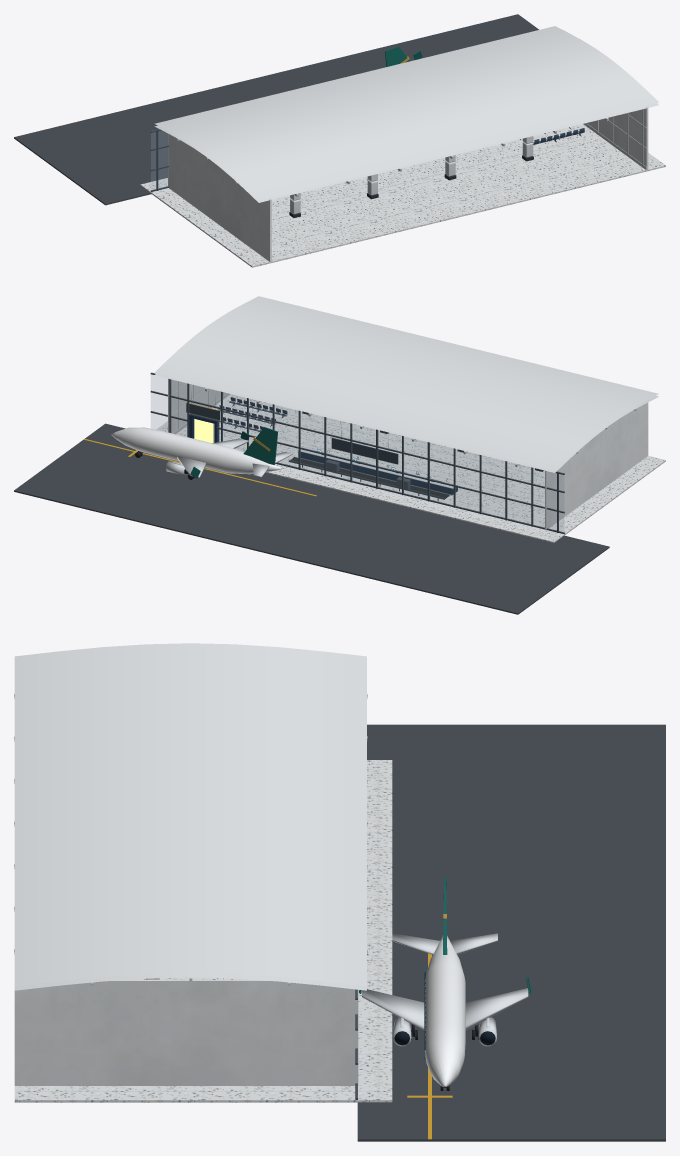
File: airport.glb
The picture shows the model from 3 angles, top to bottom: view 1: azimuth 30°, elevation 25°; view 2: azimuth 150°, elevation 25°; view 3: azimuth 270°, elevation 25°; orthographic projection. The views are drawn at different scales.
Visible parts, largest first — view 1: airport_LOD0; view 2: airport_LOD0; view 3: airport_LOD0.
Part boxes in pixels (left/top/right/bottom): airport_LOD0: left=14, top=14, right=665, bottom=267; airport_LOD0: left=14, top=296, right=665, bottom=614; airport_LOD0: left=14, top=643, right=665, bottom=1141.
Size of what is drawn, in the model's own units: 78 by 11.05 by 51.8.
27 materials, 3 textured.
